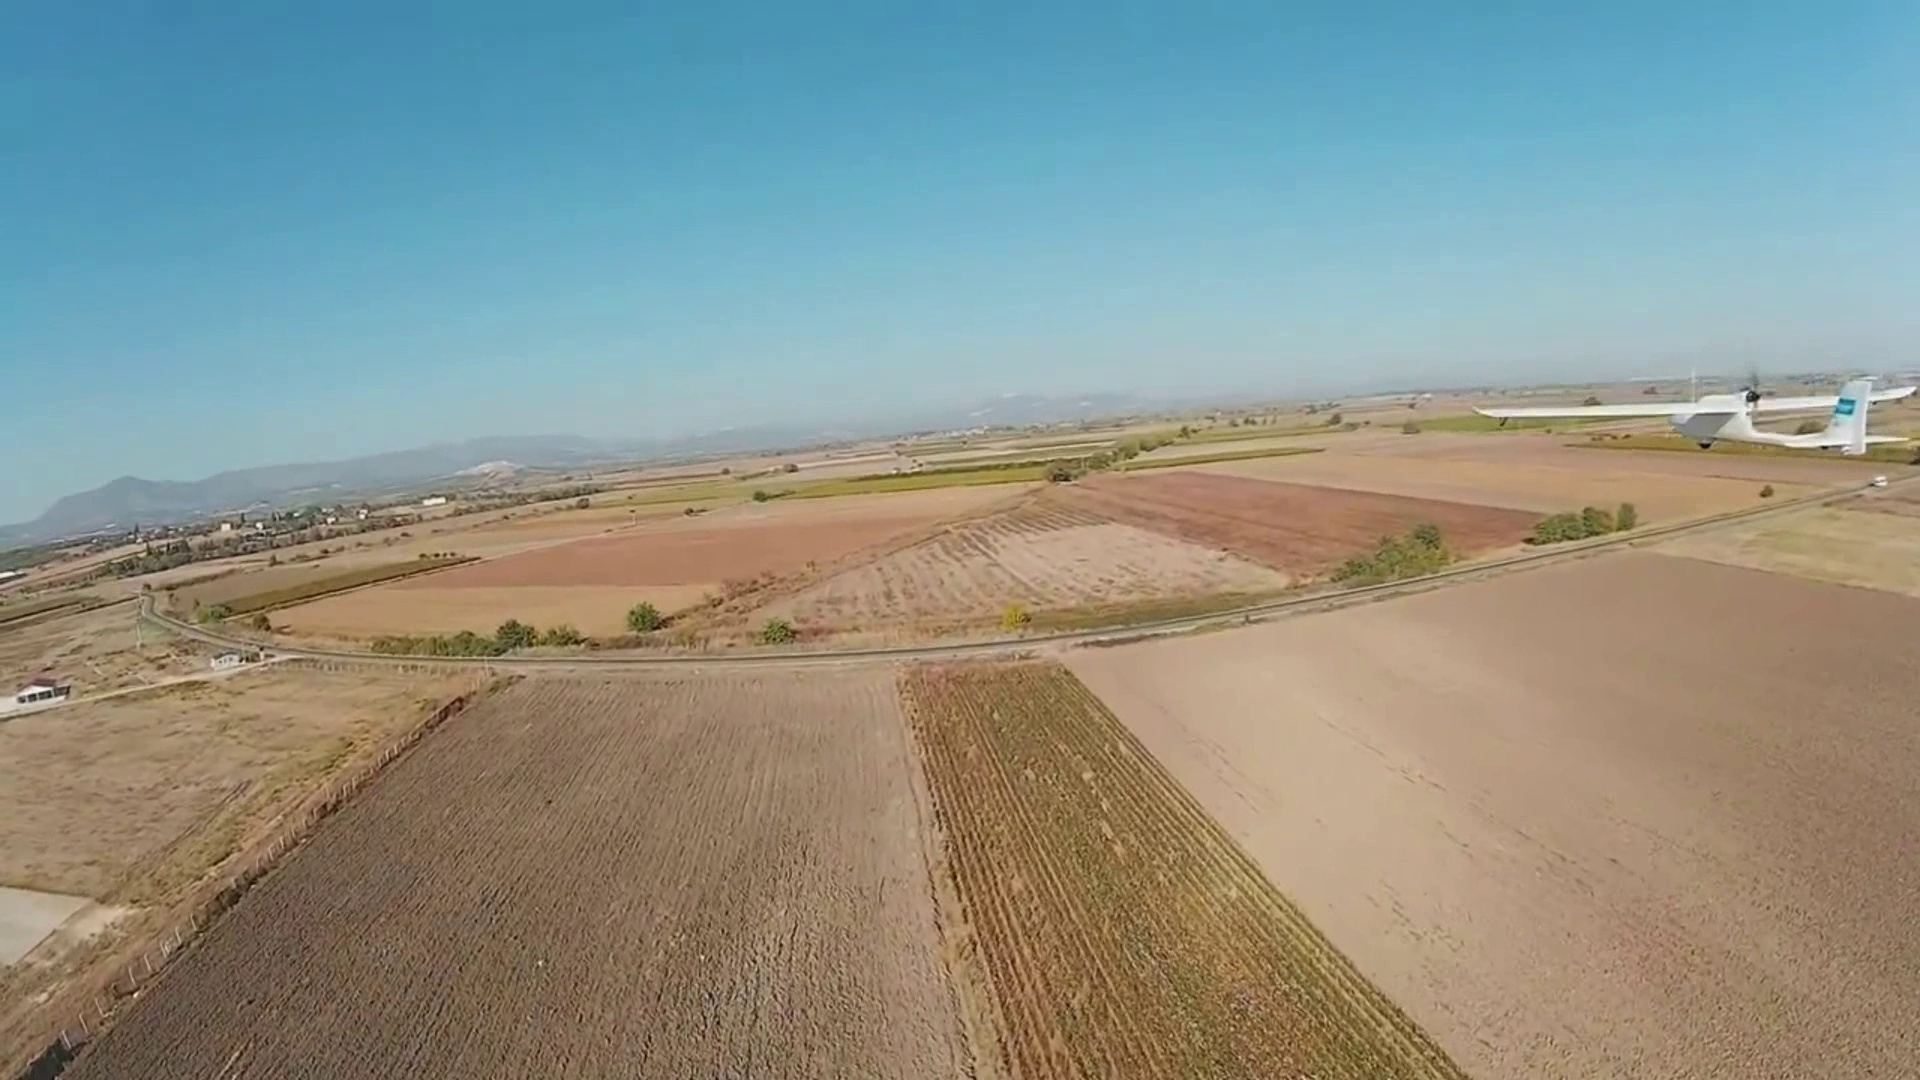airplane: (1670, 372, 1919, 460)
